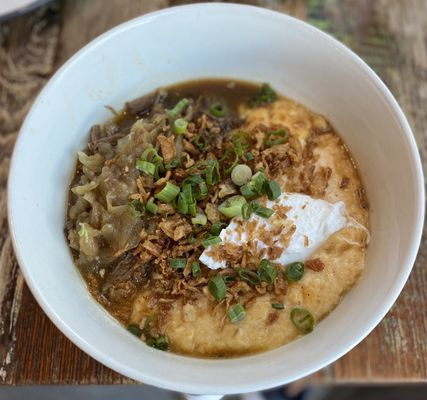sushi: (7, 4, 420, 391)
